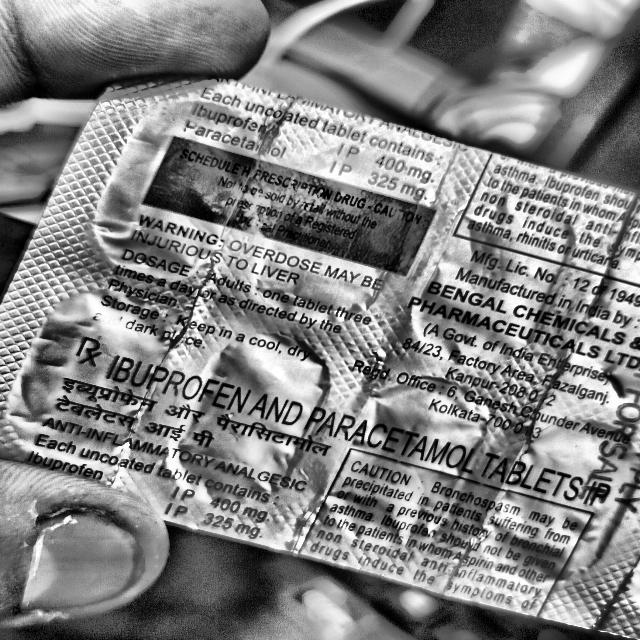IBUPROFEN AND PARACETAMOL TABLETS: (88, 348, 593, 506)
